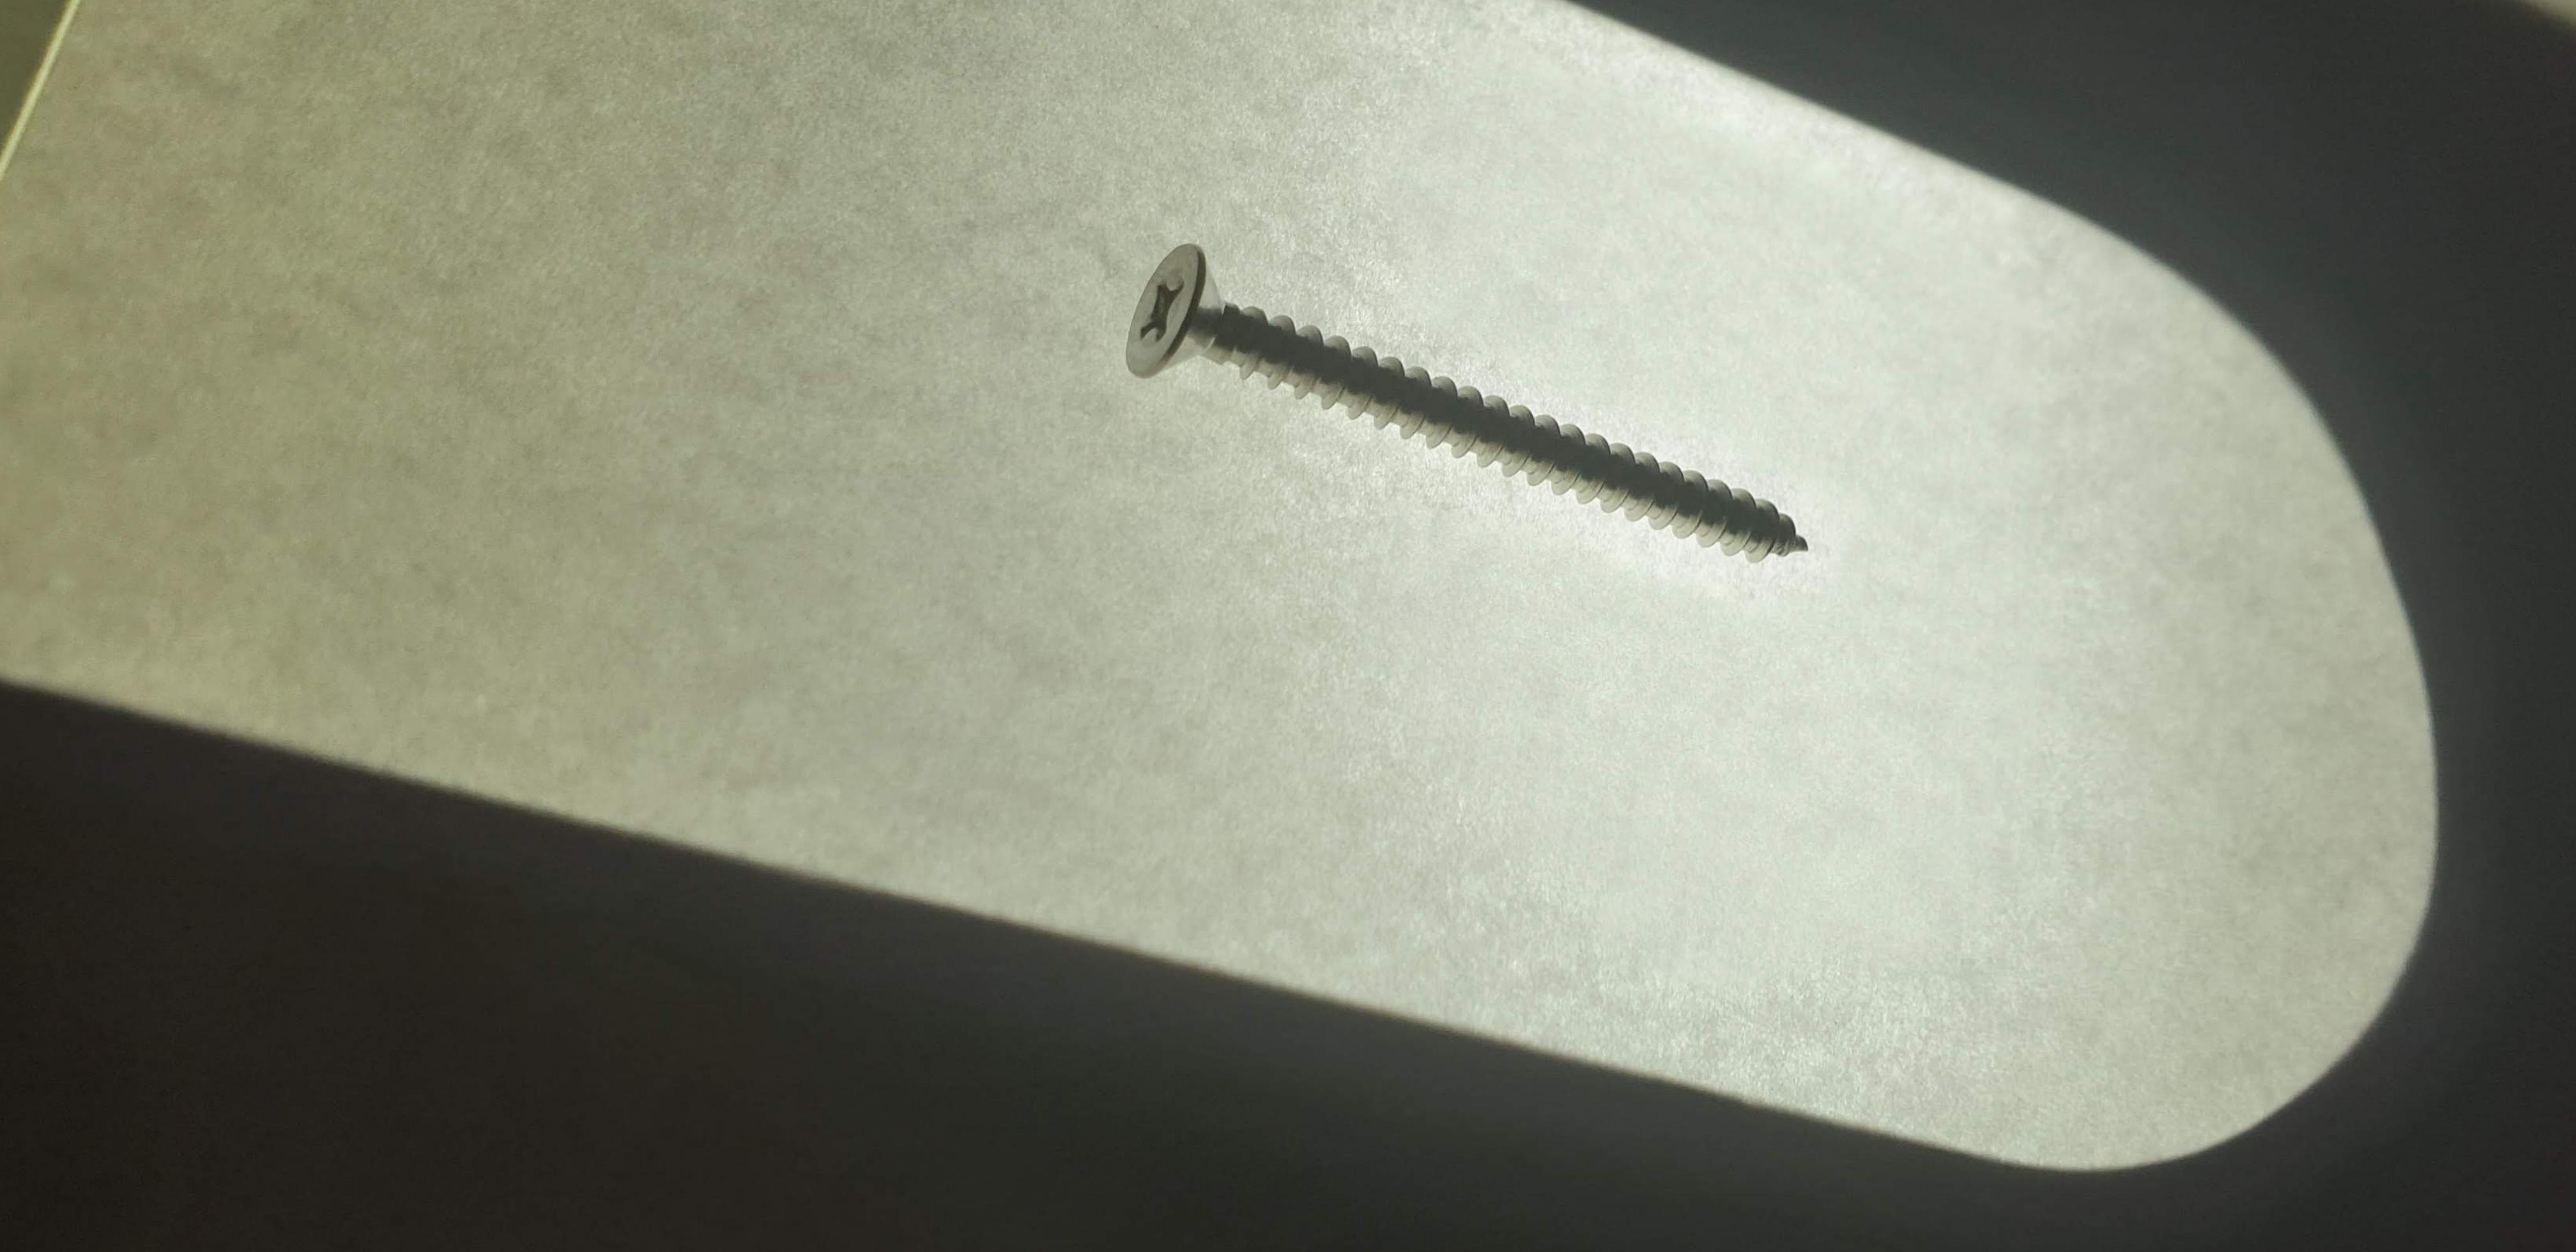S001: (971, 151, 1981, 703)
